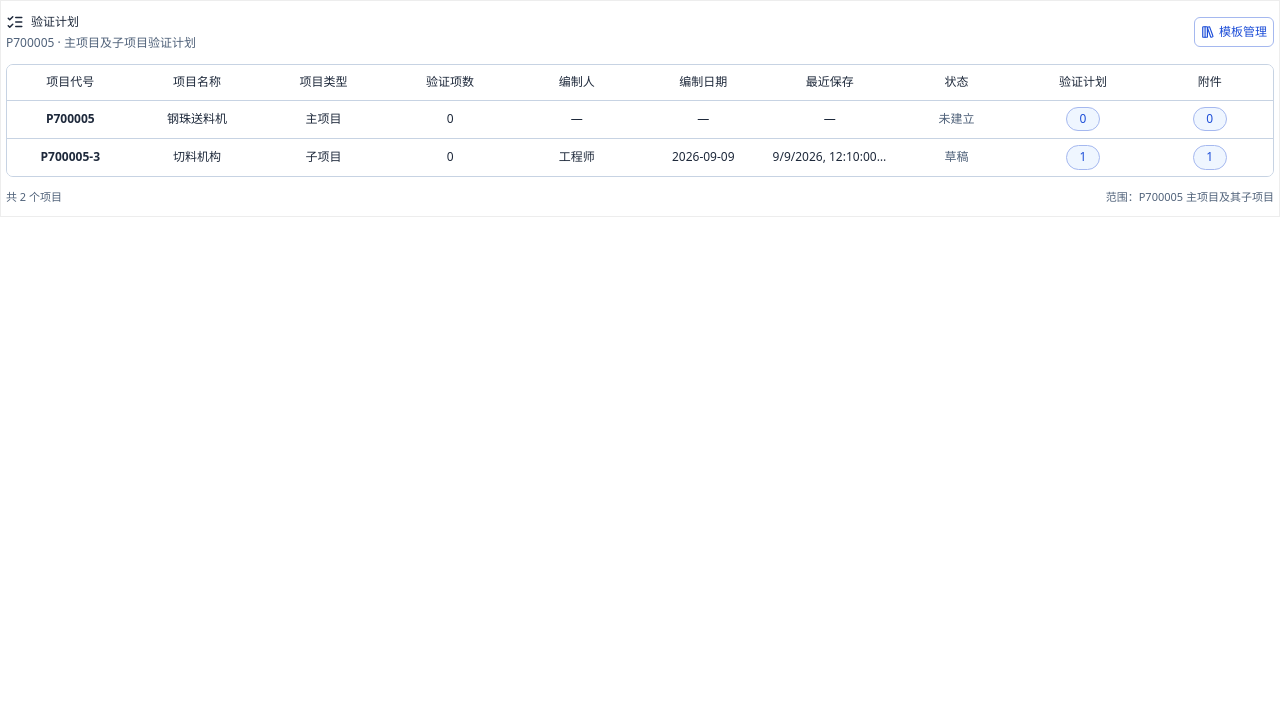
ValidationPlanManager › 汇总页分别查看验证计划文件和附件且不触发行进入
This screenshot has width=1280, height=720.
Expected: the element showing "项目代号 项目名称 项目类型 验证项数 编制人 编制日期 最近保存 状态 验证计划 附件" is shown, top-left (7, 65), bottom-right (1273, 100)
Click the button named "查看 P700005-3 的验证计划文件" at (1083, 157), box top-left (1066, 145), bottom-right (1100, 170)
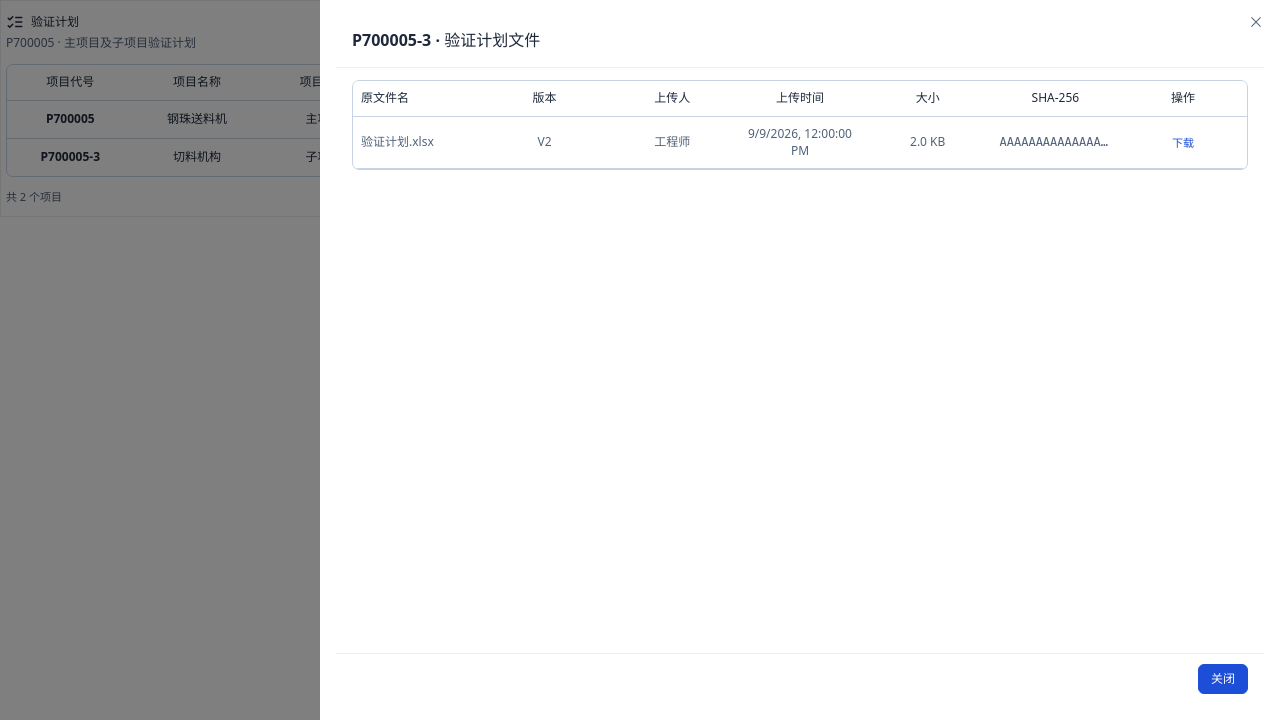
Expected: the text "P700005-3 · 验证计划文件" is shown, top-left (352, 29), bottom-right (540, 51)
Expected: the text "验证计划.xlsx" is shown, top-left (353, 116), bottom-right (481, 169)
Expected: the text "V2" is shown, top-left (481, 116), bottom-right (608, 169)
Click the button "关闭" at (1223, 679), box top-left (1198, 664), bottom-right (1248, 694)
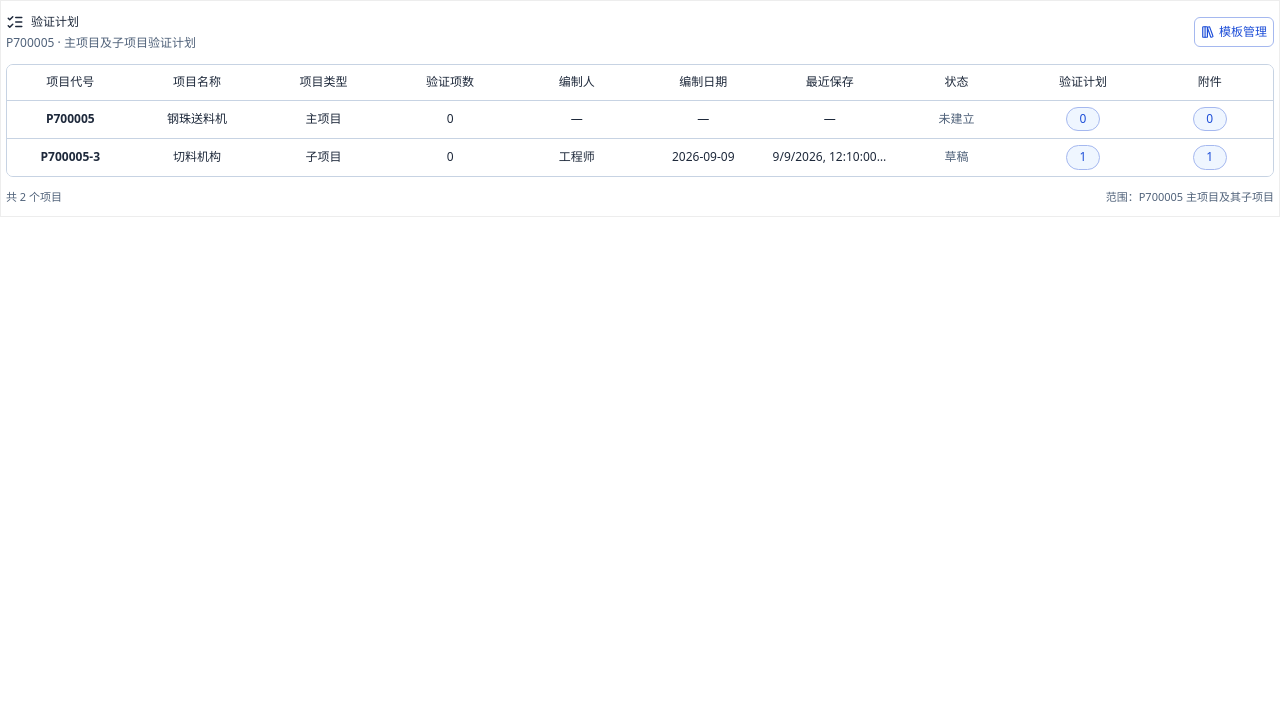
Click the button named "查看 P700005-3 的附件" at (1210, 157), box top-left (1193, 145), bottom-right (1227, 170)
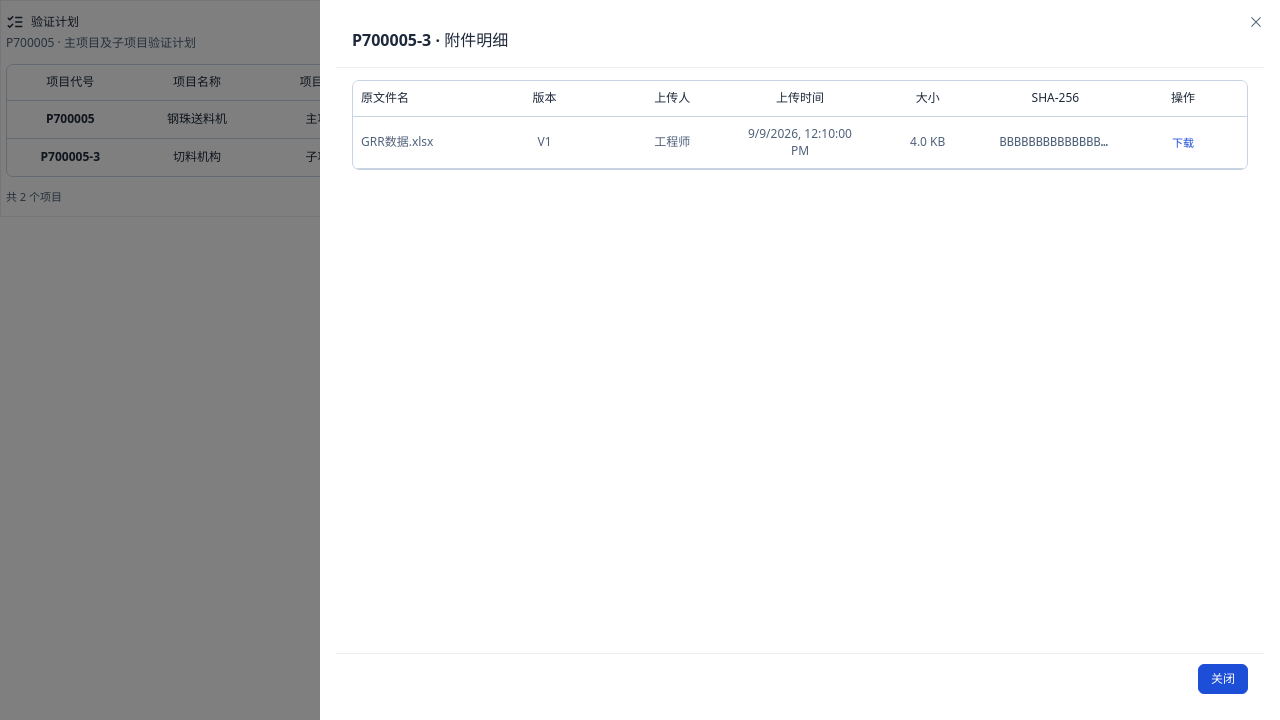
Expected: the text "GRR数据.xlsx" is shown, top-left (353, 116), bottom-right (481, 169)
